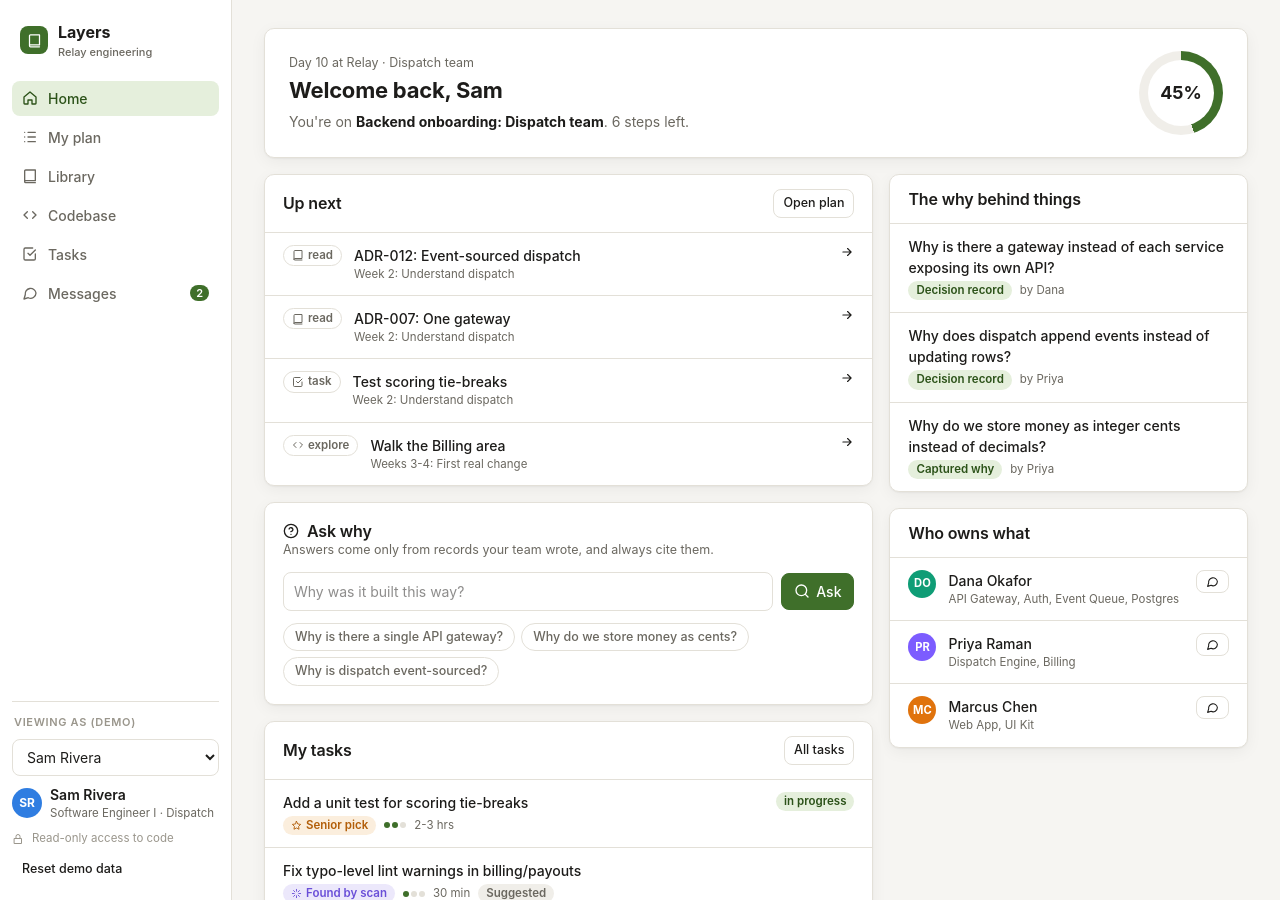
it: AskWhy › routes an unanswered question to a senior on the same track
Type "Why is the office coffee so bad?" into the field with placeholder "Why was it built this way?" at point(528, 591), box [283,572,773,610]
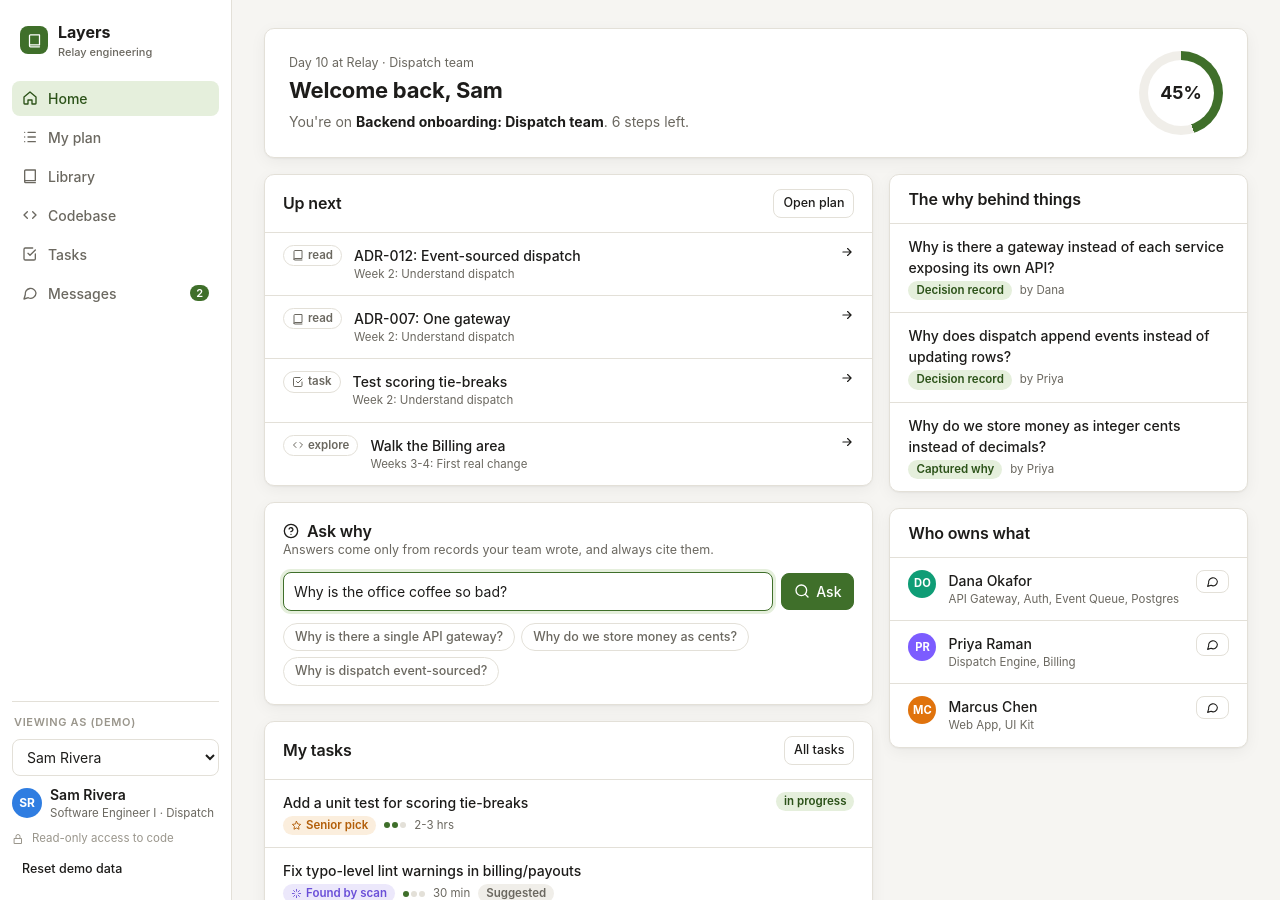
Click the button "Ask" at point(818, 591), box [781,572,854,610]
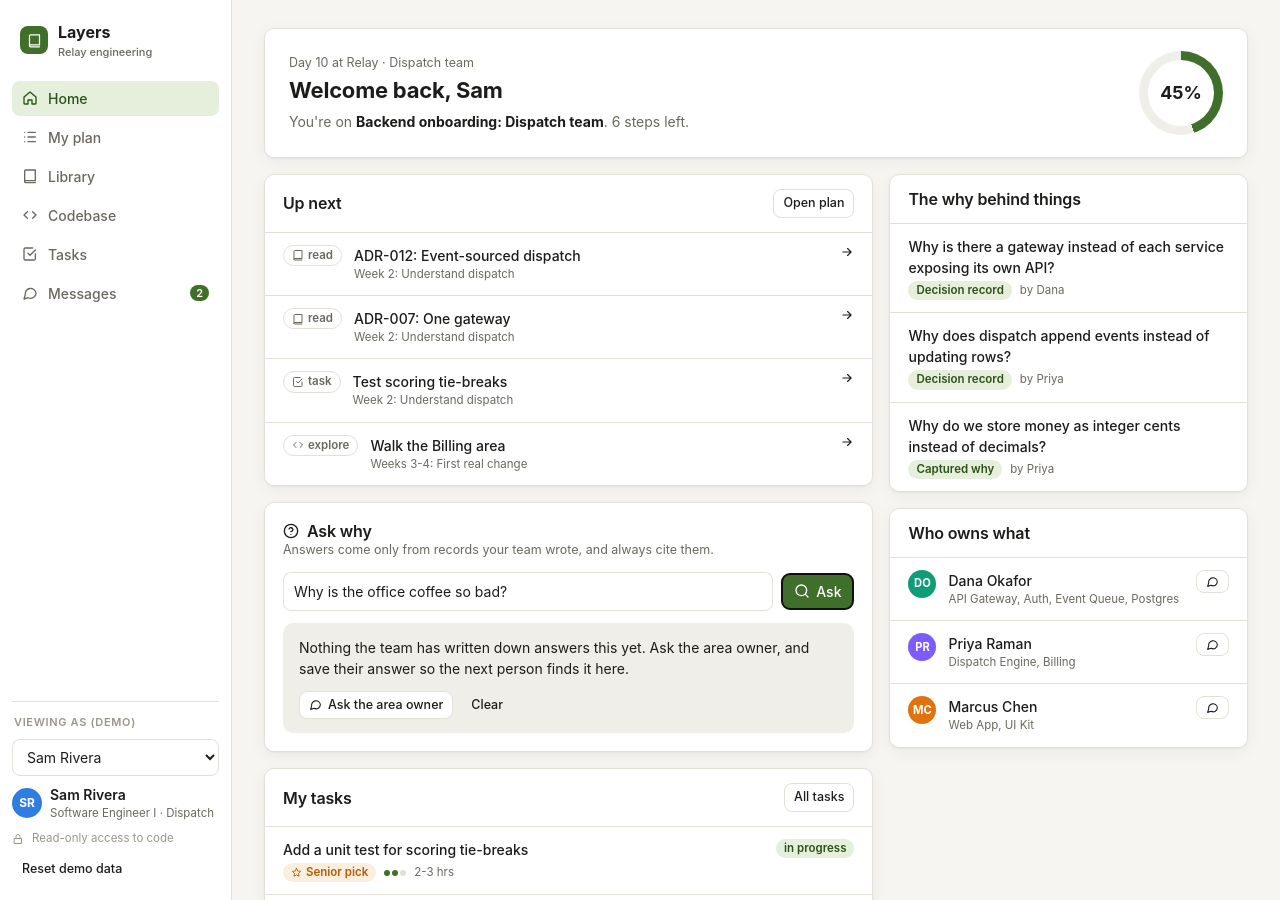
Expected: the text "Nothing the team has written down" is shown, [299,638,809,676]
Click the button "Ask the area owner" at point(376, 705), box [299,690,453,719]
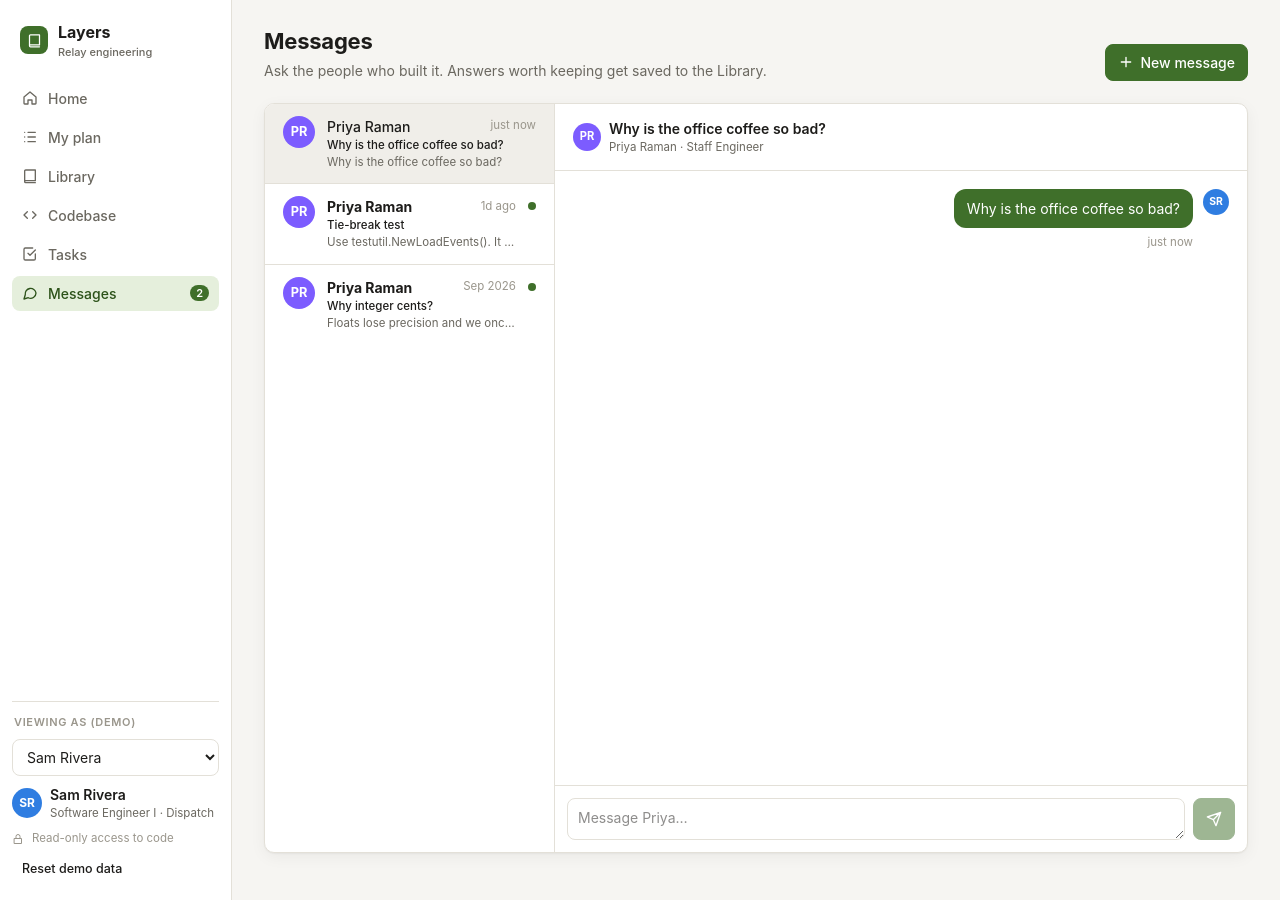
Expected: the 2nd text "Why is the office coffee so bad?" is shown, [327,138,504,152]
